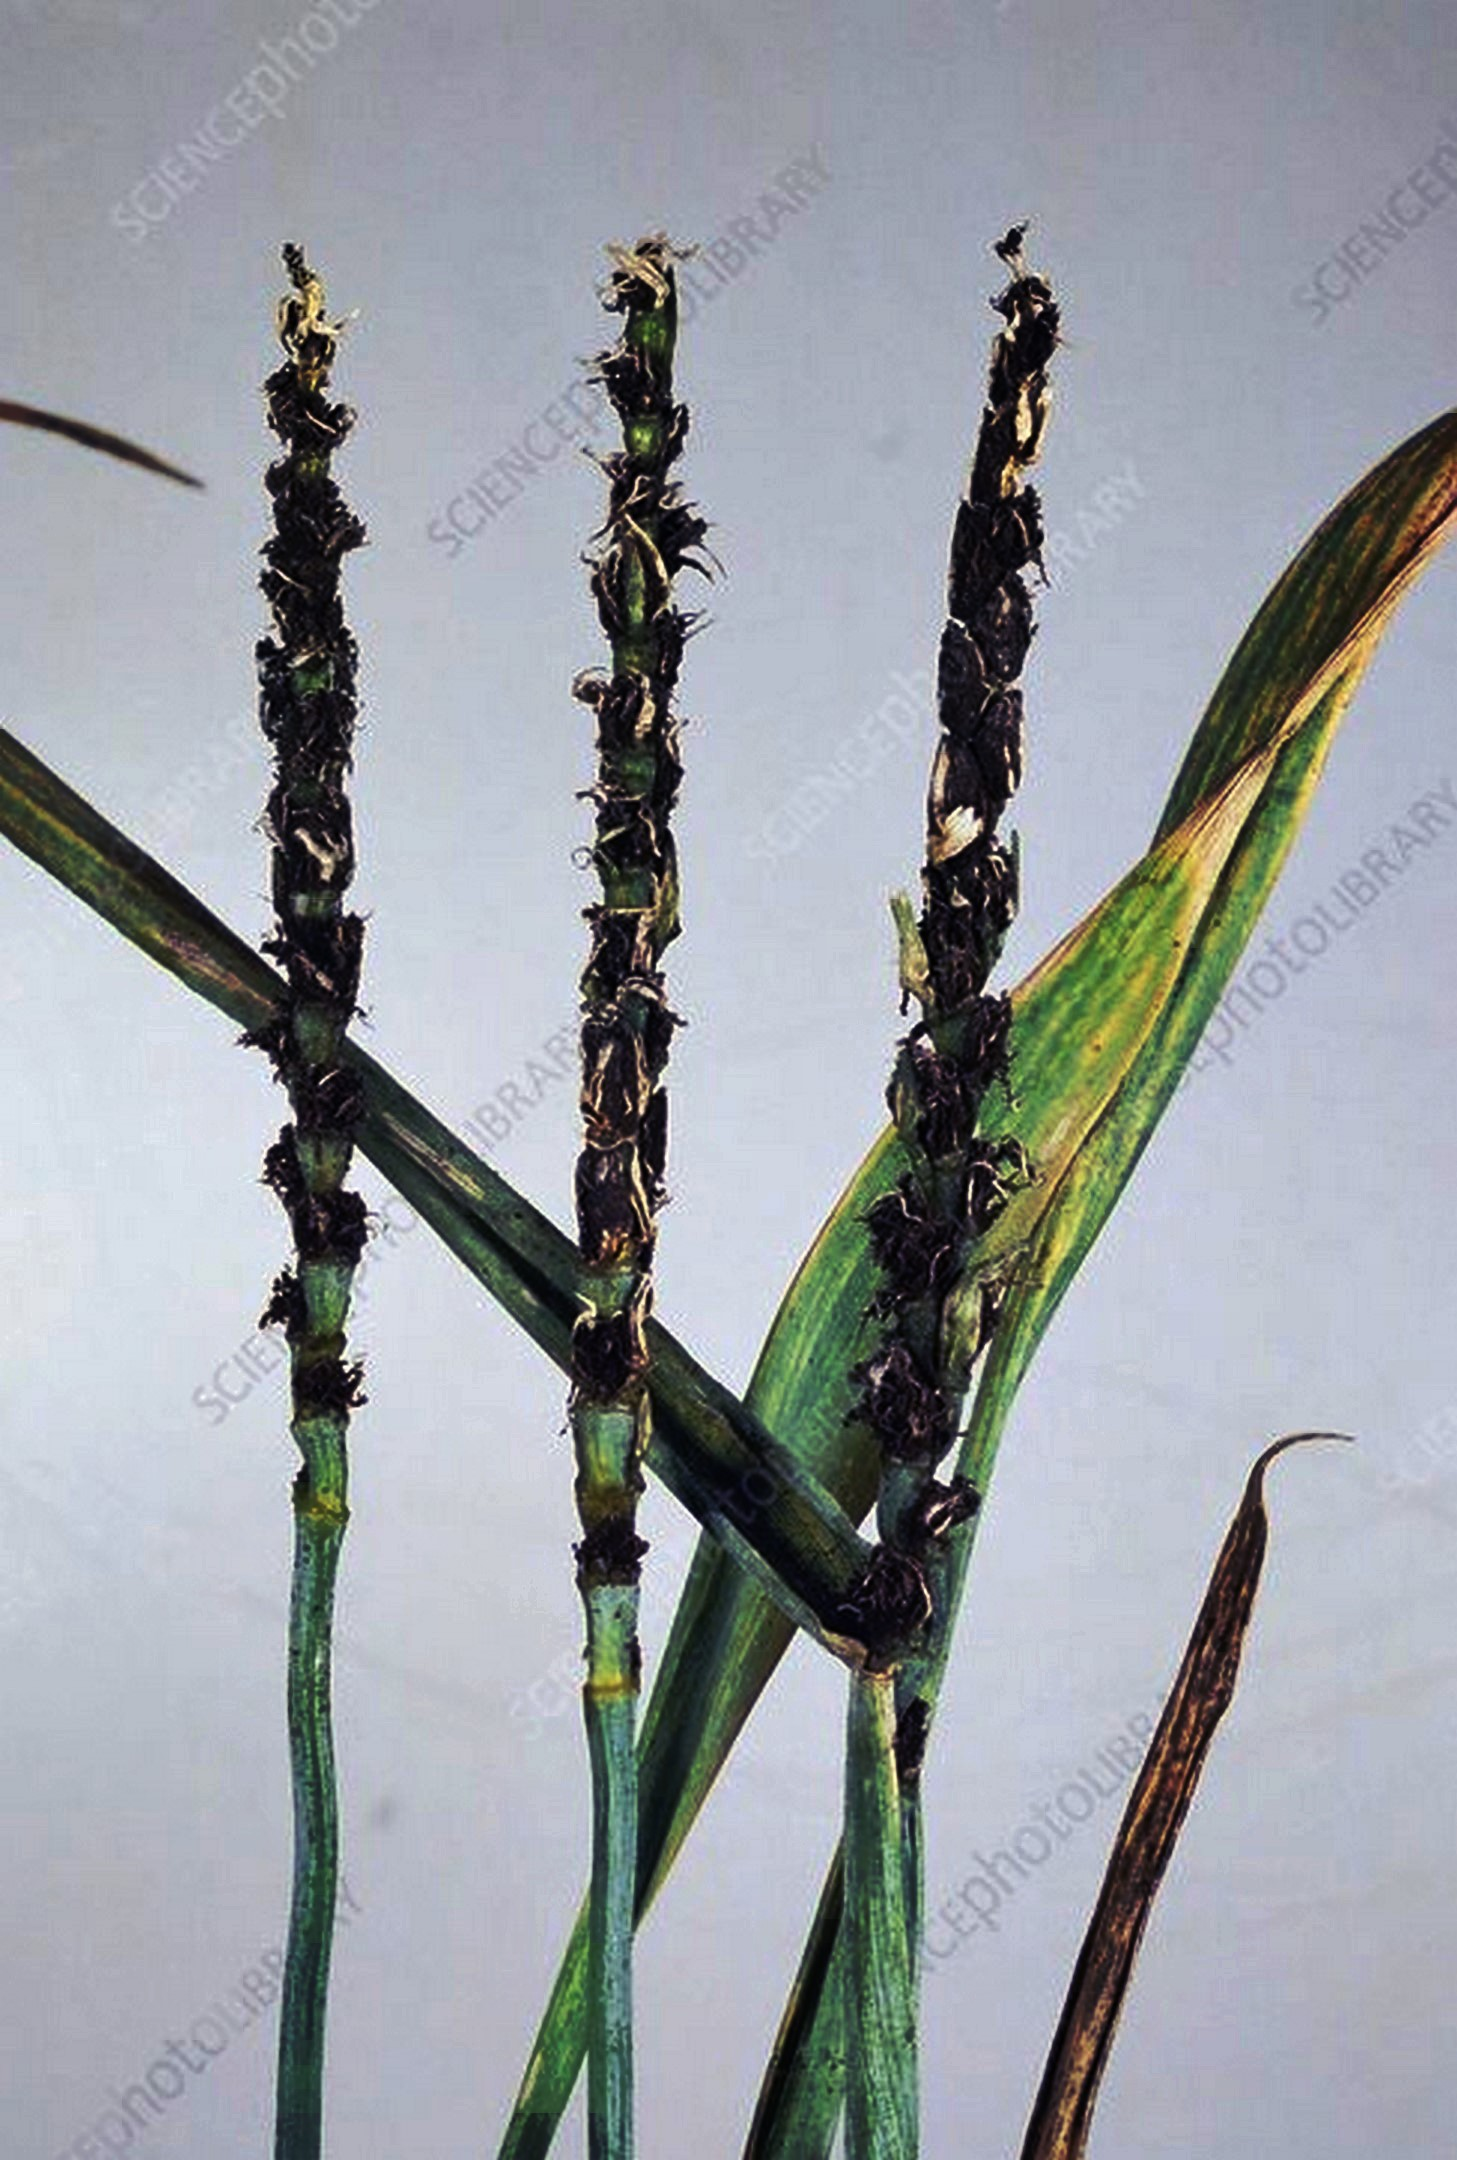Wheat Loose Smut: (857, 208, 1096, 1572), (504, 237, 699, 1508), (211, 254, 413, 1386)
